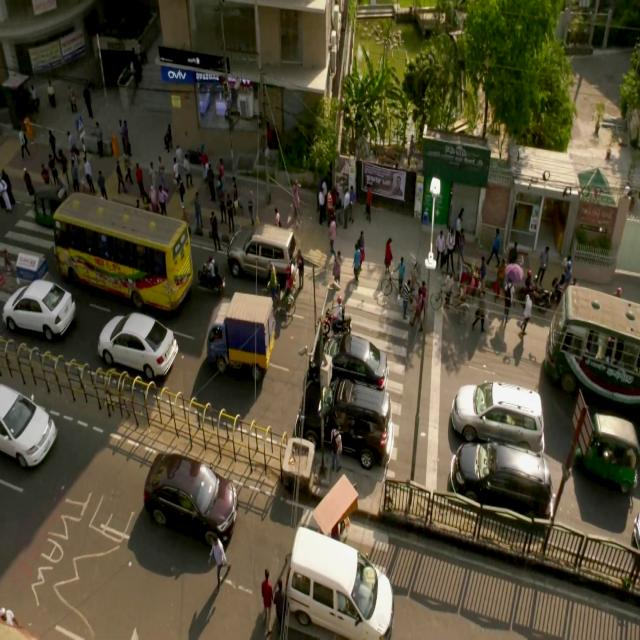black: (292, 374, 390, 466), (447, 443, 552, 509), (307, 330, 388, 382)
silver: (449, 383, 544, 444), (226, 220, 296, 280)
white: (95, 313, 178, 381)
